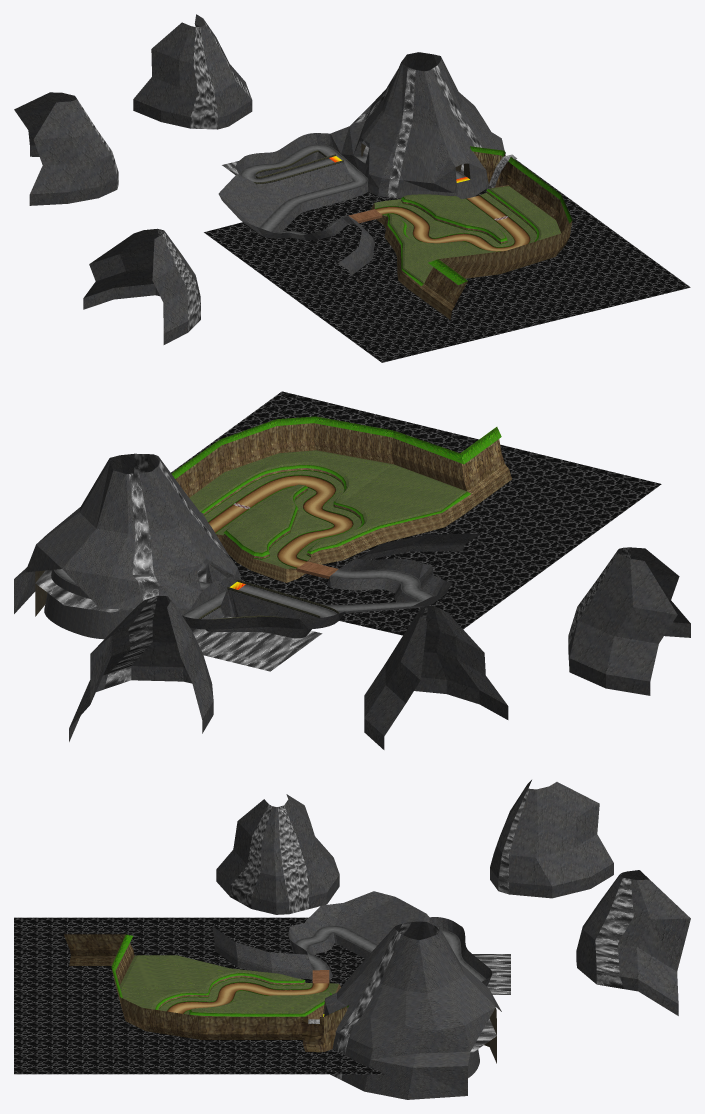
3 renders of one model, top to bottom at view 1: azimuth 30°, elevation 25°; view 2: azimuth 150°, elevation 25°; view 3: azimuth 270°, elevation 25°, orthographic. The views are drawn at different scales.
Visible parts, largest first — view 1: course-SKP--auto17, course-SKP--auto19.001, course-SKP--auto9.001, course-SKP--auto8, course-SKP--auto10.001, course-SKP--auto12.001, course-SKP--auto7.001, course-SKP--auto4.001, course-SKP--auto6.001; view 2: course-SKP--auto17, course-SKP--auto19.001, course-SKP--auto9.001, course-SKP--auto8, course-SKP--auto10.001, course-SKP--auto7.001, course-SKP--auto4.001, course-SKP--auto12.001, course-SKP--auto6.001; view 3: course-SKP--auto17, course-SKP--auto19.001, course-SKP--auto10.001, course-SKP--auto9.001, course-SKP--auto8, course-SKP--auto7.001, course-SKP--auto12.001, course-SKP--auto4.001.
Boxes of the visible parts, x1,y1,x2,y2 form: course-SKP--auto17: [14, 14, 505, 344]; course-SKP--auto19.001: [204, 159, 690, 362]; course-SKP--auto9.001: [370, 151, 572, 319]; course-SKP--auto8: [374, 186, 561, 283]; course-SKP--auto10.001: [76, 22, 481, 332]; course-SKP--auto12.001: [240, 144, 466, 234]; course-SKP--auto7.001: [375, 146, 572, 285]; course-SKP--auto4.001: [375, 195, 530, 251]; course-SKP--auto6.001: [254, 150, 343, 184]; course-SKP--auto17: [14, 453, 690, 749]; course-SKP--auto19.001: [171, 391, 661, 635]; course-SKP--auto9.001: [175, 423, 511, 582]; course-SKP--auto8: [189, 450, 466, 568]; course-SKP--auto10.001: [35, 453, 630, 689]; course-SKP--auto7.001: [171, 416, 501, 568]; course-SKP--auto4.001: [208, 475, 353, 567]; course-SKP--auto12.001: [54, 569, 434, 629]; course-SKP--auto6.001: [199, 579, 338, 619]; course-SKP--auto17: [212, 780, 690, 1099]; course-SKP--auto19.001: [14, 917, 383, 1074]; course-SKP--auto10.001: [230, 788, 633, 1079]; course-SKP--auto9.001: [64, 934, 347, 1052]; course-SKP--auto8: [119, 955, 338, 1014]; course-SKP--auto7.001: [111, 934, 348, 1016]; course-SKP--auto12.001: [294, 925, 485, 981]; course-SKP--auto4.001: [167, 982, 329, 1013].
Bounding box in the file's own units: 117928 × 31034 × 141993.
15 materials, 15 textured.
